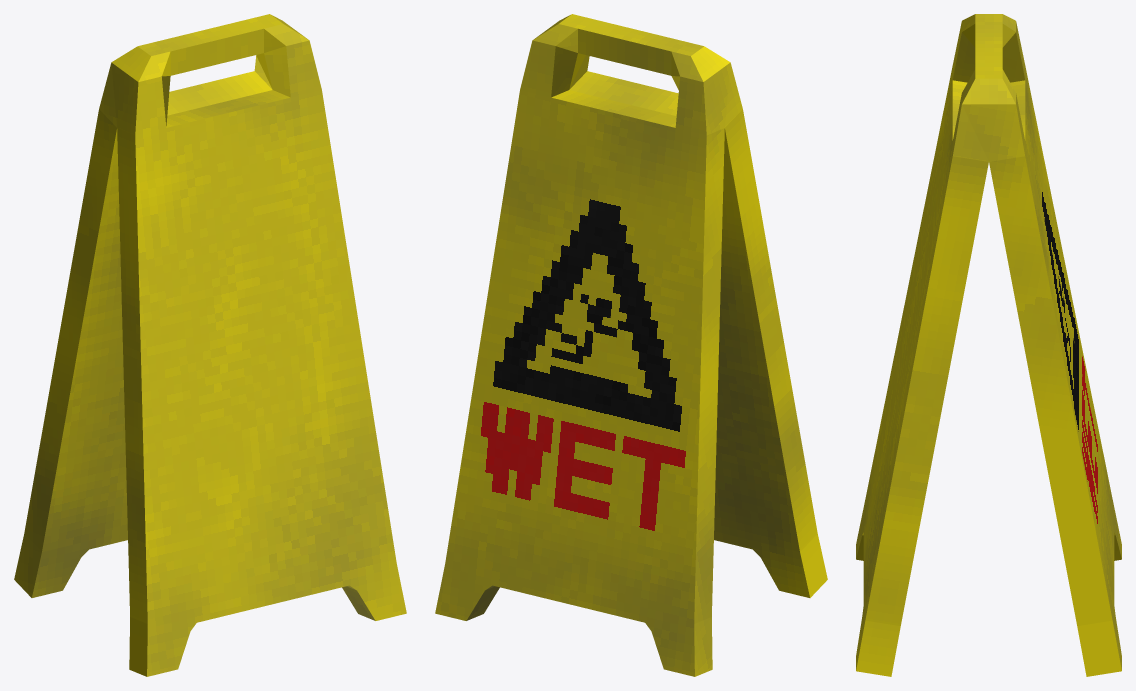
Rendered from wetFloorSign.gltf.
3 views of the same model, side by side, from view 1: azimuth 30°, elevation 25°; view 2: azimuth 150°, elevation 25°; view 3: azimuth 270°, elevation 25° (orthographic).
Visible parts, largest first — view 1: plane; view 2: plane; view 3: plane.
Boxes of the visible parts, box(x1,y1,x2,y2) form: plane: box(14, 14, 406, 676); plane: box(435, 14, 827, 676); plane: box(856, 14, 1121, 676).
Bounding box in the file's own units: 1.04 × 2.18 × 0.9249.
1 material, 1 textured.
